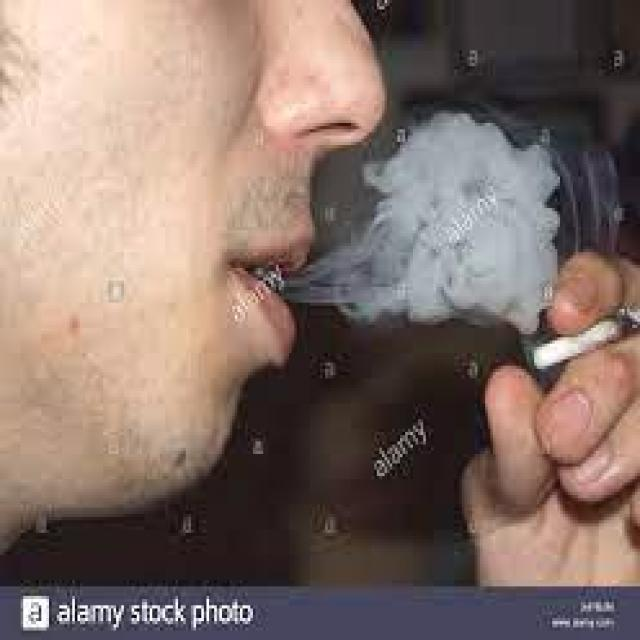cigarette: (524, 306, 637, 375)
